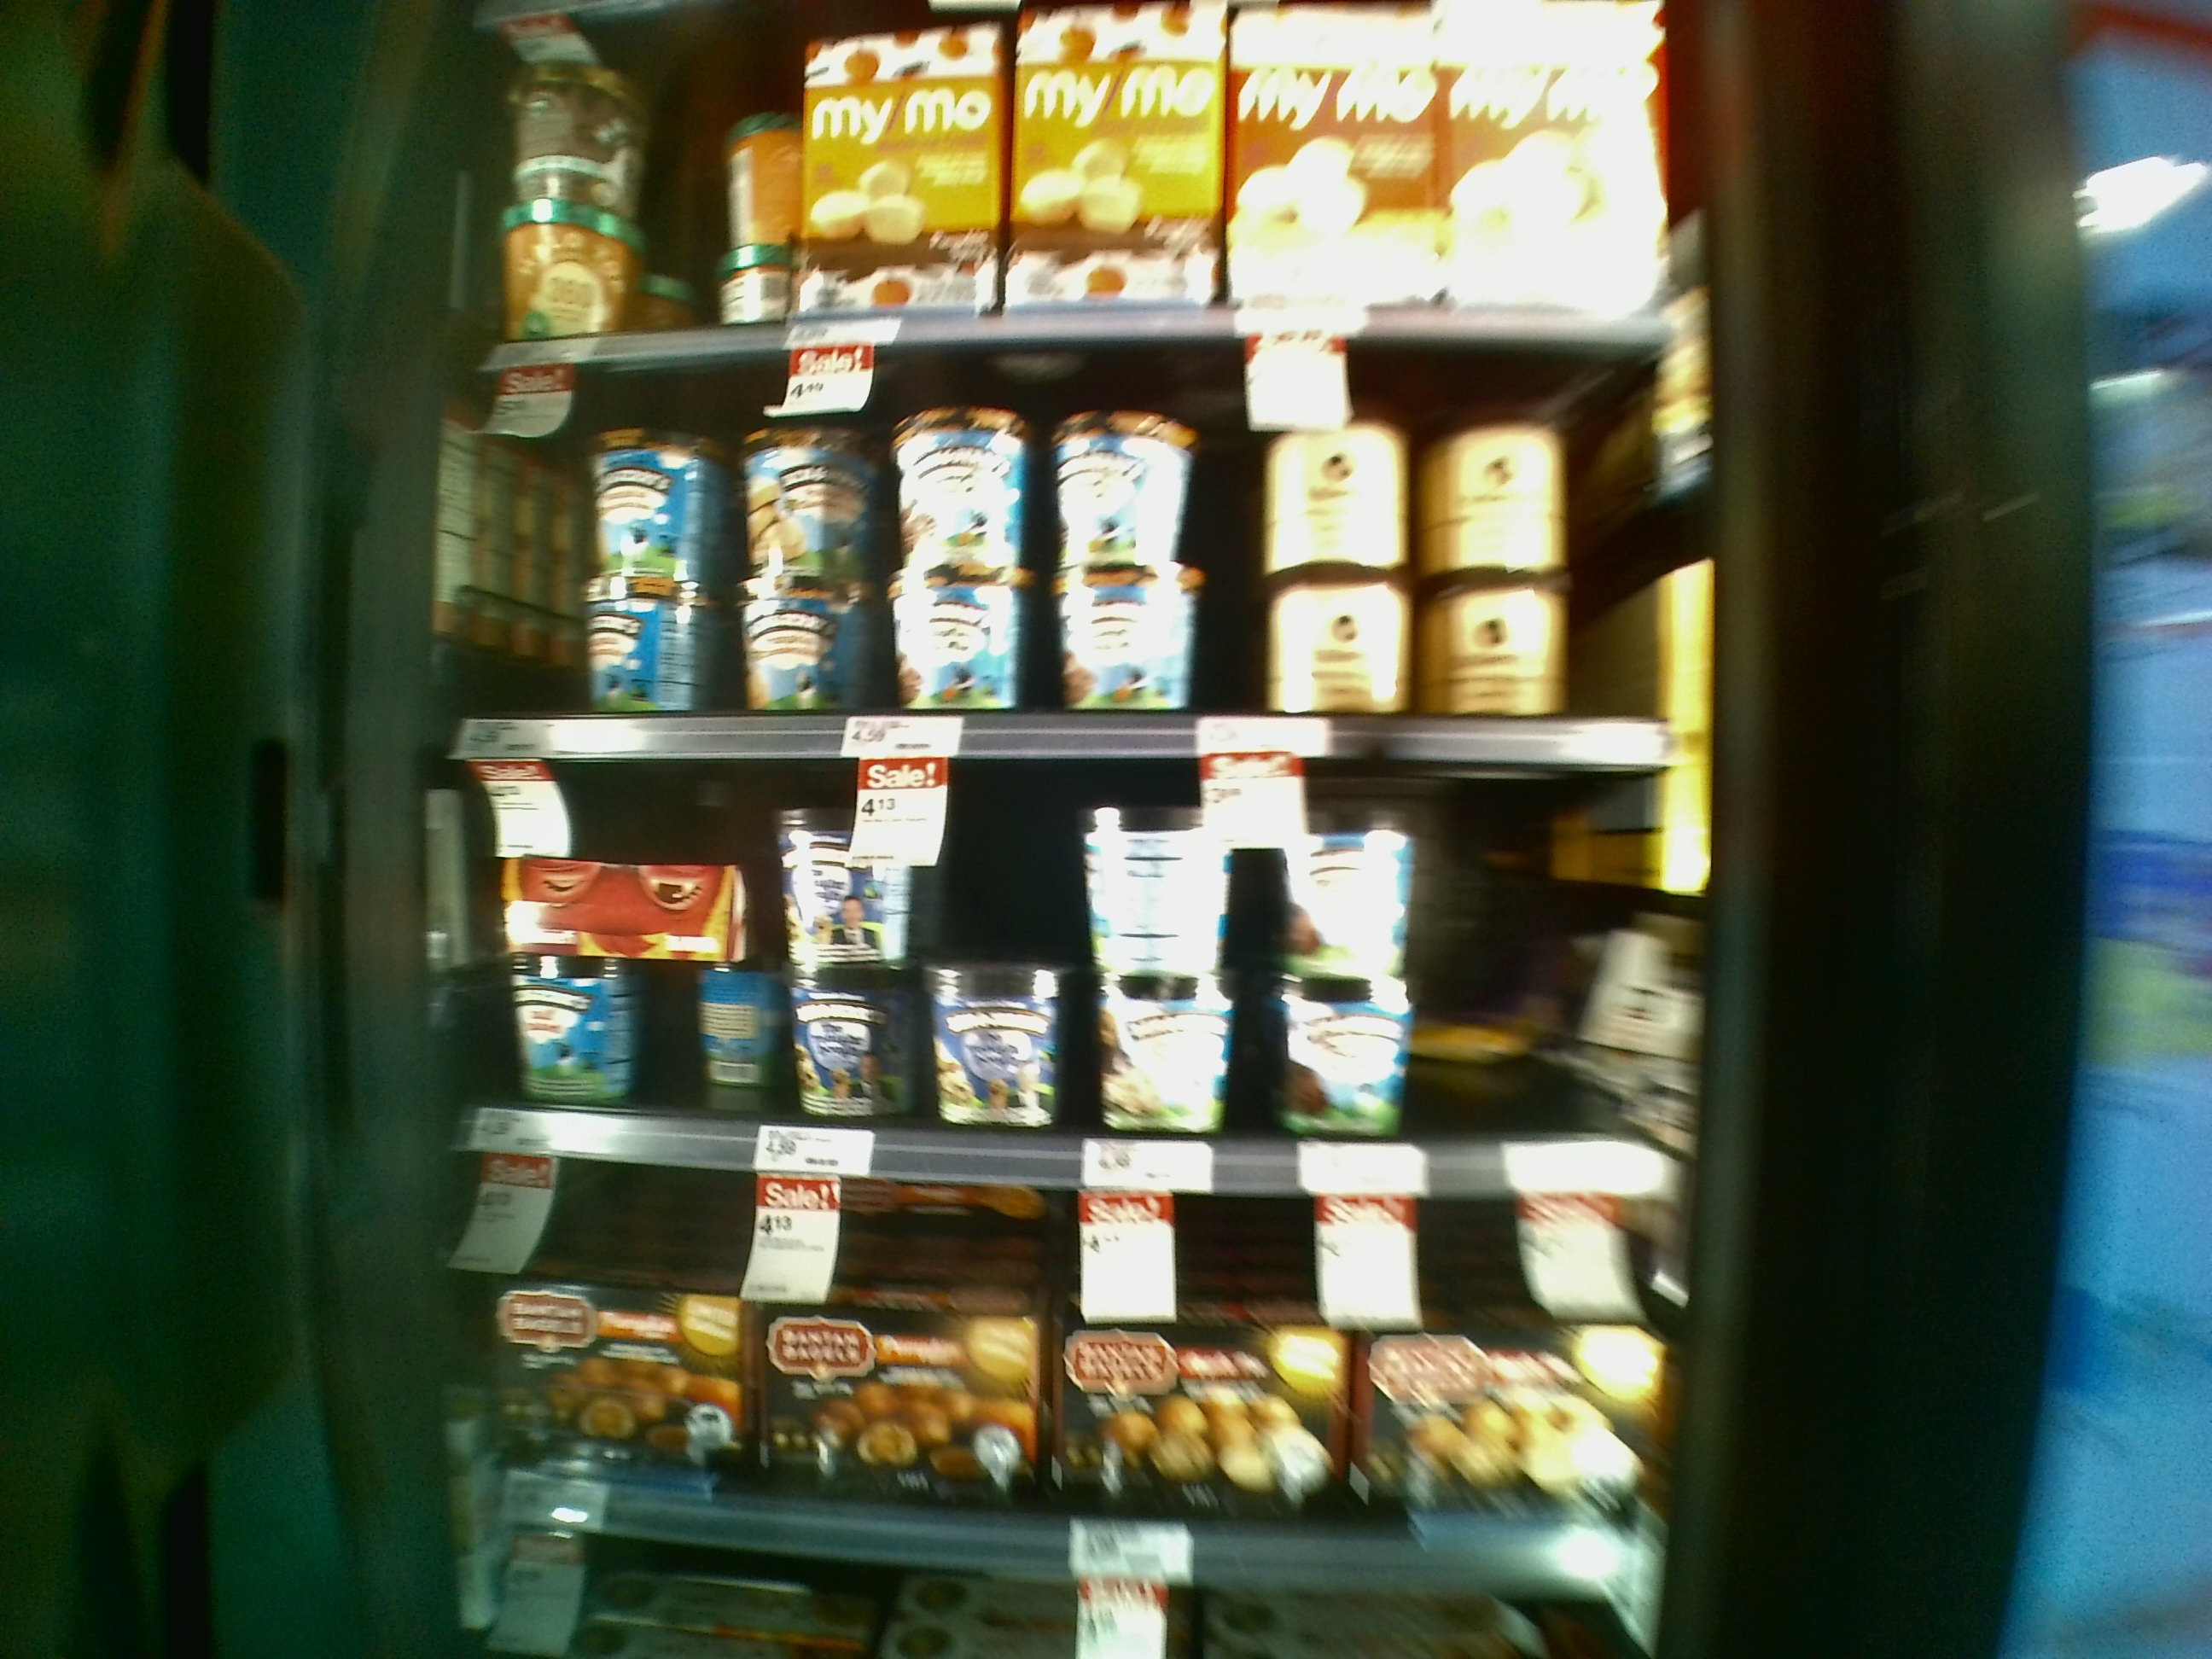shelf: (430, 730, 1698, 1197), (420, 1134, 1658, 1591), (432, 343, 1705, 775)
